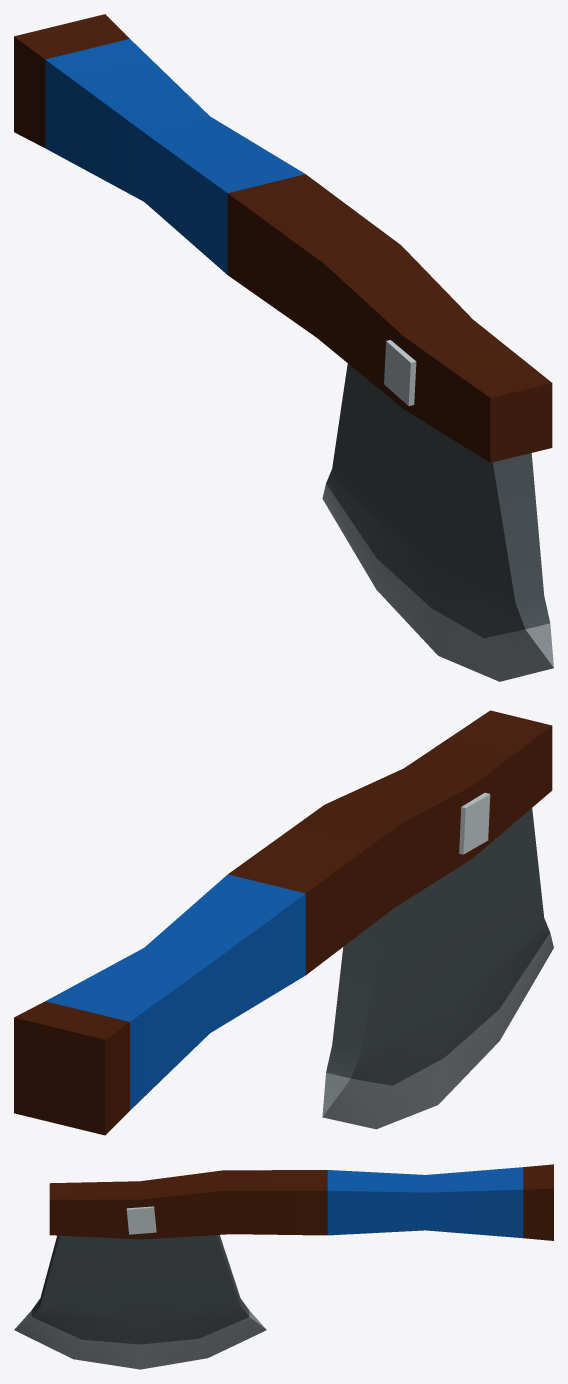
Rendered from Axe 03.FBX.
3 views of the same model, one above another, from view 1: azimuth 30°, elevation 25°; view 2: azimuth 150°, elevation 25°; view 3: azimuth 270°, elevation 25° (orthographic). The views are drawn at different scales.
Parts seen in each view (by area): view 1: Axe 03; view 2: Axe 03; view 3: Axe 03.
Boxes of the visible parts, left/top/right/bottom form: Axe 03: left=14, top=14, right=553, bottom=681; Axe 03: left=14, top=710, right=553, bottom=1135; Axe 03: left=14, top=1164, right=553, bottom=1369.
Size of the model in its own units: 8.64 by 31.97 by 81.02.
Materials: 1 (1 with a texture image).
